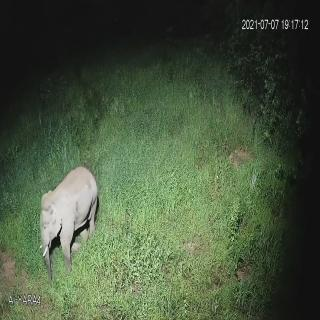Elephant: (33, 165, 105, 283)
